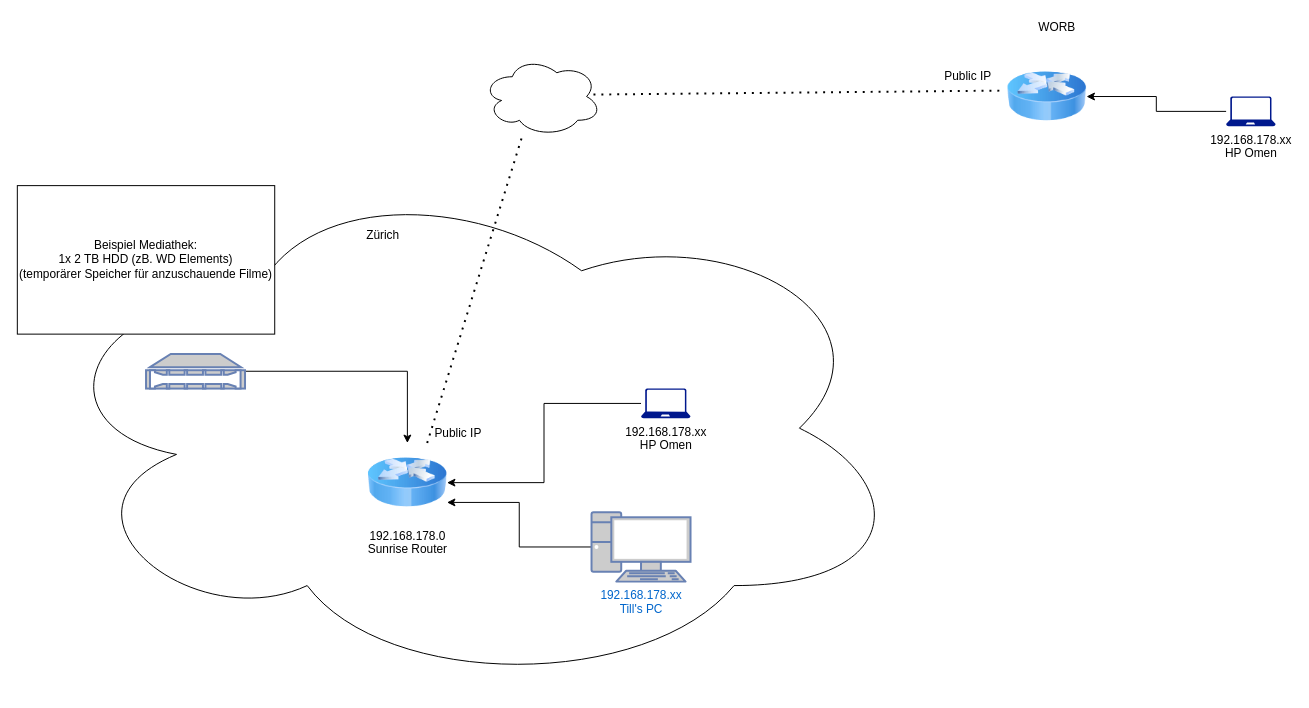
Image size: 1309x708. Some labels were removed from this diagram. The shapes that lost their labels are listed below. From the top down, each one's centre as x and y in pixels, then its label:
the point at 541,96: Internet
the point at 1046,96: 192.168.178.0 Swisscom Router
the point at 195,370: 192.168.178.2 (static)
